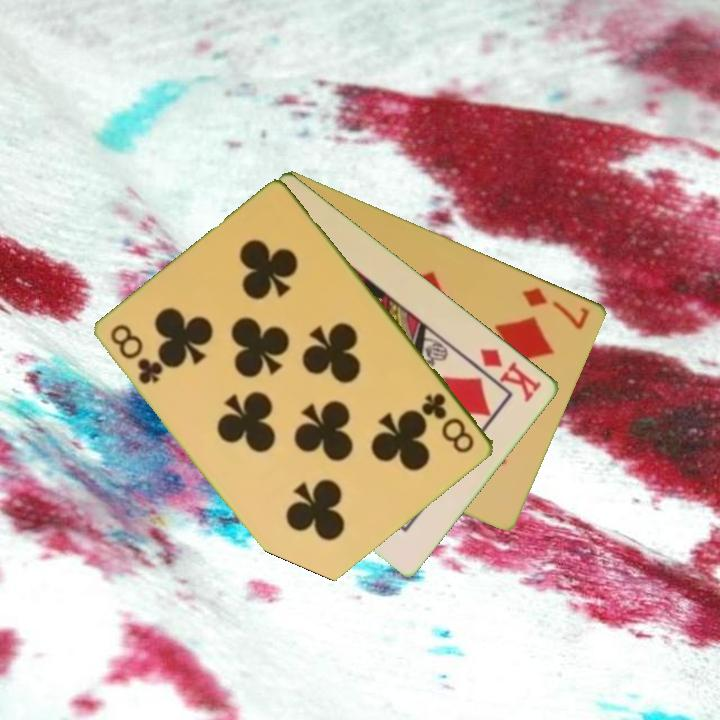7d: (519, 283, 593, 332)
8c: (418, 389, 478, 457), (107, 320, 167, 388)
Kd: (476, 344, 545, 405)
